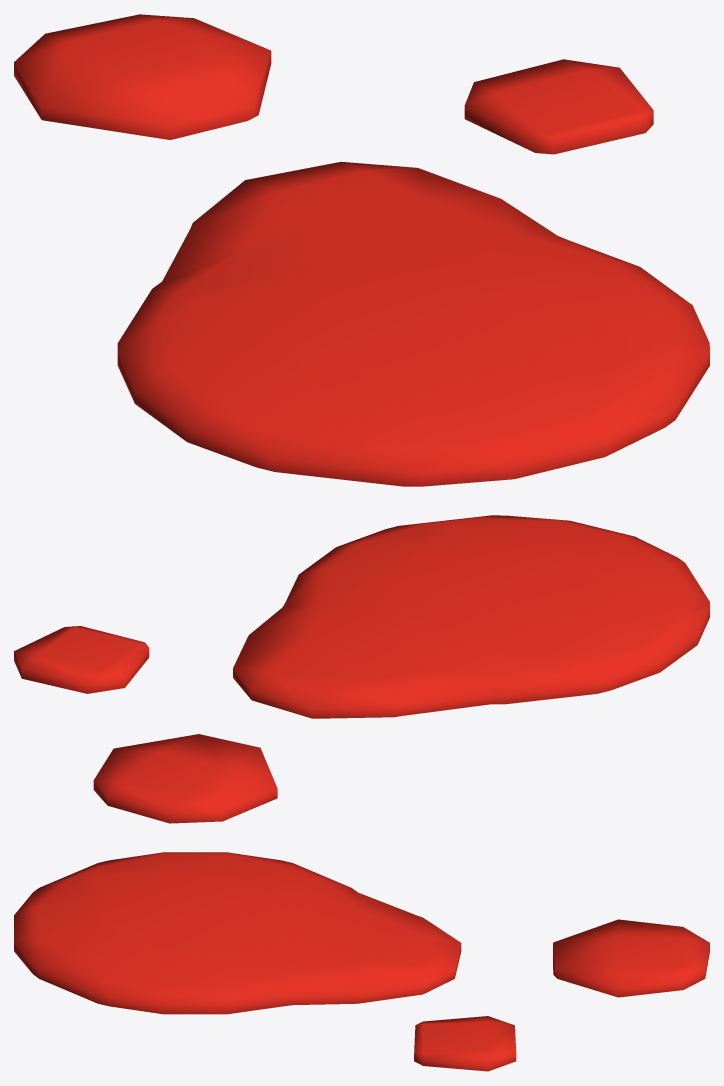
File: blood2.fbx
3 views of the same model, one above another, from view 1: azimuth 30°, elevation 25°; view 2: azimuth 150°, elevation 25°; view 3: azimuth 270°, elevation 25° (orthographic). The views are drawn at different scales.
Visible parts, largest first — view 1: Blood 2; view 2: Blood 2; view 3: Blood 2.
Boxes of the visible parts, x1=… form: Blood 2: x1=14, y1=14, x2=709, y2=486; Blood 2: x1=14, y1=515, x2=709, y2=823; Blood 2: x1=14, y1=852, x2=709, y2=1071.
Size of the model in its own units: 86.86 by 121 by 5.38.
